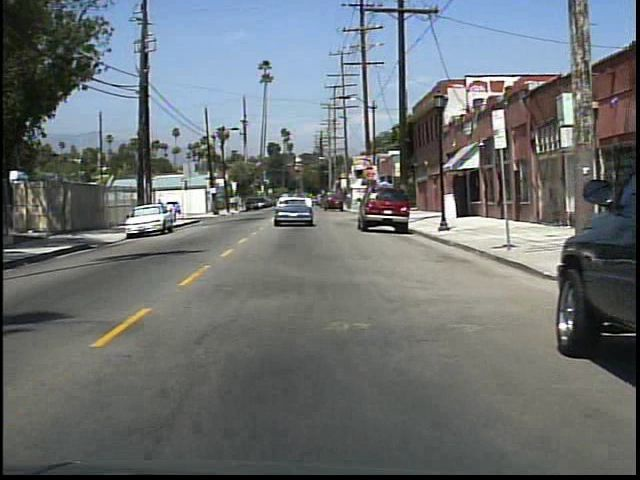person: (169, 199, 181, 224)
